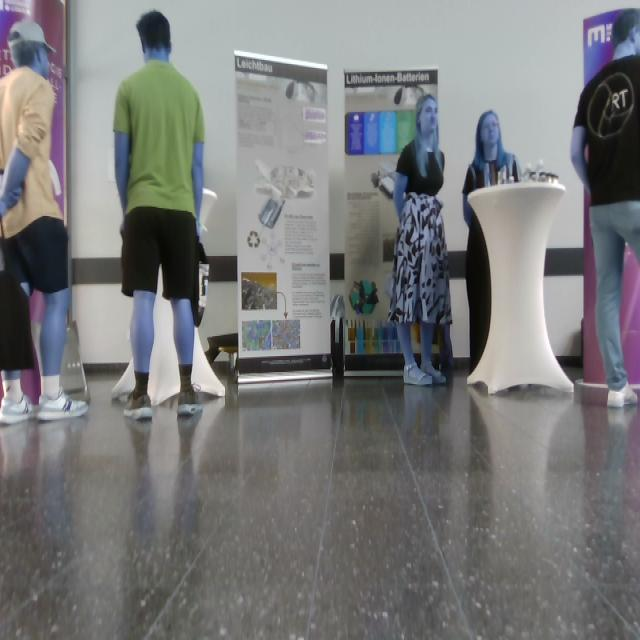light bulb: (255, 159, 315, 231), (371, 162, 397, 200), (198, 188, 218, 233), (259, 198, 285, 229), (286, 80, 317, 104), (394, 85, 425, 106)
person: (112, 9, 207, 421), (1, 20, 89, 424), (570, 9, 640, 409), (388, 95, 454, 387)
pillar: (466, 179, 574, 395)
tiled floor: (1, 361, 640, 640)
